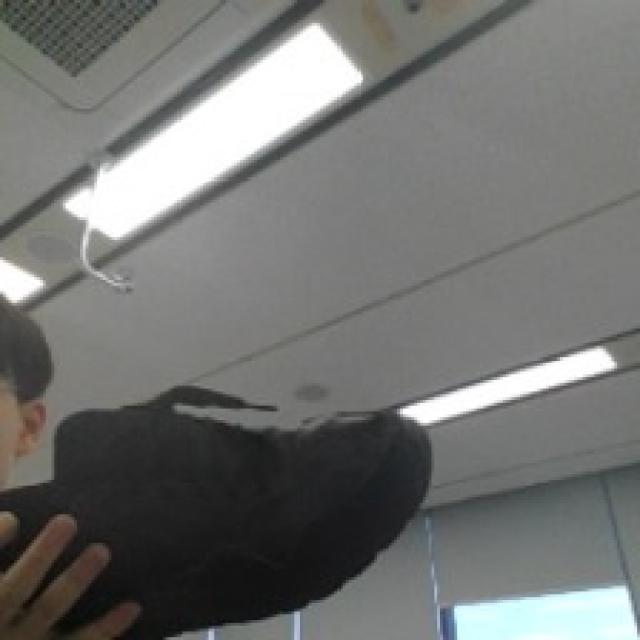shoes: (18, 323, 516, 637)
